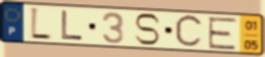3: (101, 11, 125, 45)
C: (174, 13, 206, 51)
E: (207, 16, 239, 51)
L: (29, 6, 54, 43), (60, 9, 85, 43)
S: (133, 12, 162, 47)
